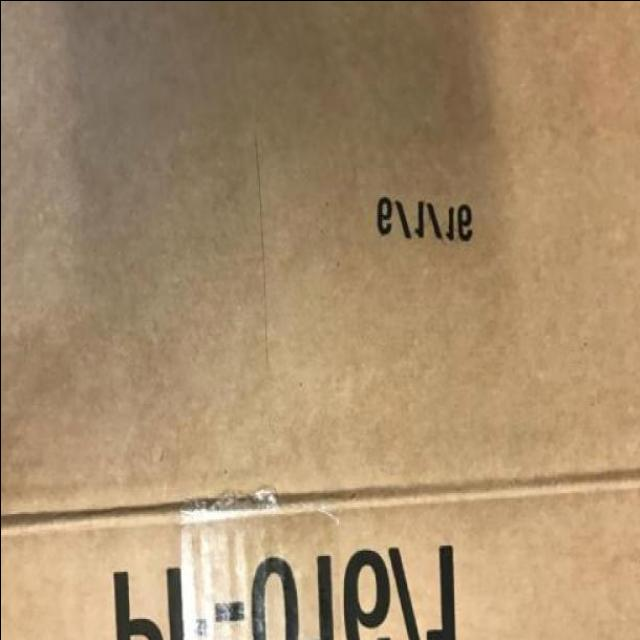cardboard paper: (0, 471, 640, 640)
